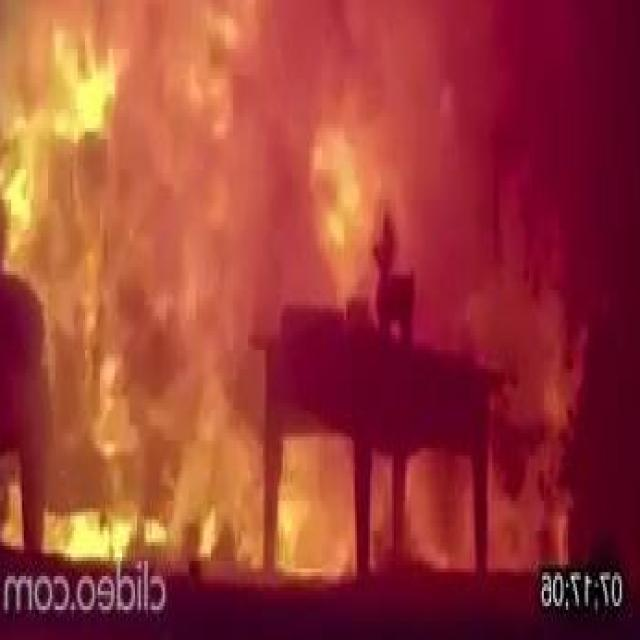smoke: (0, 0, 281, 290), (35, 301, 263, 569), (278, 0, 380, 301), (490, 264, 590, 564), (280, 444, 352, 568)
